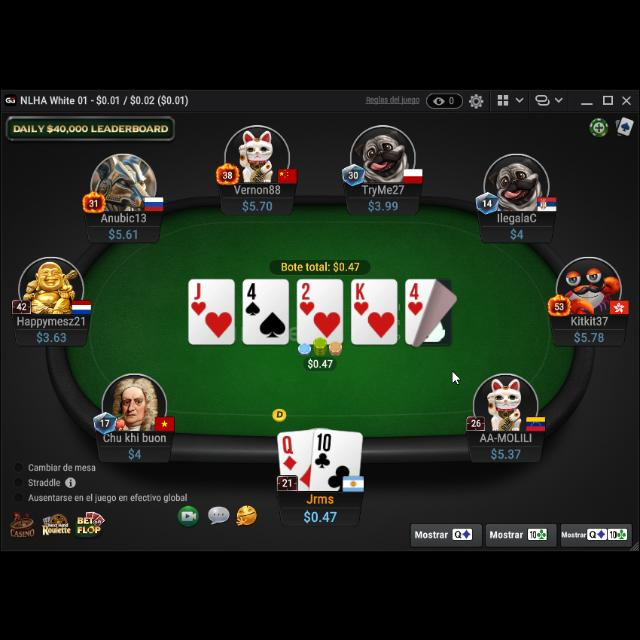2h: (298, 280, 318, 316)
4h: (406, 280, 426, 316)
4s: (244, 280, 262, 316)
Jh: (189, 280, 207, 316)
Kh: (352, 281, 370, 317)
Qd: (280, 434, 298, 472)
Tc: (314, 430, 334, 470)
bet_text: (307, 356, 335, 370)
dealer: (270, 406, 288, 422)
pot_text: (280, 260, 362, 272)
stack_text: (303, 507, 339, 525), (571, 328, 607, 344), (108, 225, 140, 241), (490, 446, 522, 462), (34, 329, 68, 343), (240, 198, 274, 212), (368, 198, 400, 212), (126, 446, 144, 460), (508, 226, 526, 240)
